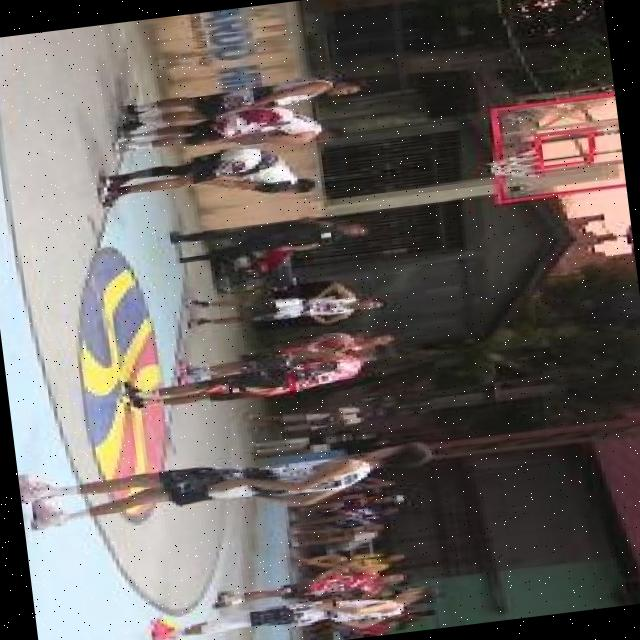ball: (308, 329, 350, 352)
hoop: (528, 139, 547, 182)
